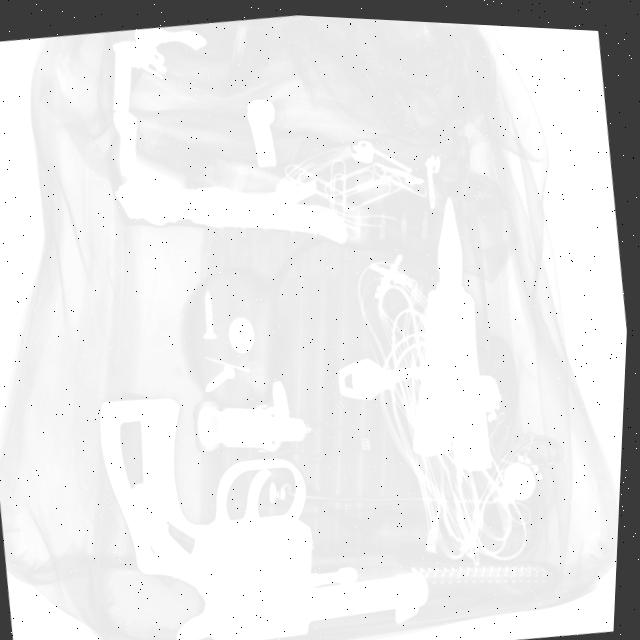pistol: (91, 359, 448, 640)
